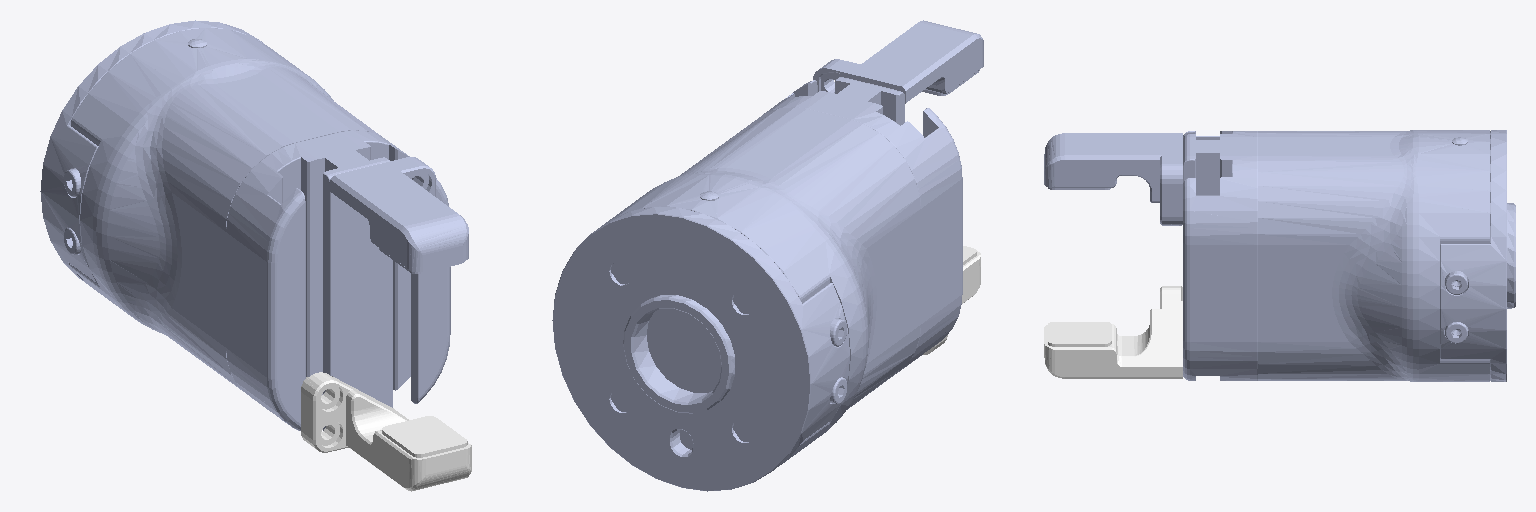
The robot description file, URDF, robot "Z02":
<?xml version="1.0" encoding="utf-8"?>
<!-- This URDF was automatically created by SolidWorks to URDF Exporter! Originally created by [author] ([email redacted]) 
     Commit Version: 1.6.0-4-g7f85cfe  Build Version: 1.6.7995.38578
     For more information, please see http://wiki.ros.org/sw_urdf_exporter -->
<robot
  name="Z02">
  <link
    name="base_link">
    <inertial>
      <origin
        xyz="0.0351488286721654 -0.0010622914192712 0.05732189697876"
        rpy="0 0 0" />
      <mass
        value="0.341305928820693" />
      <inertia
        ixx="0.000360995650954712"
        ixy="-2.94457431365275E-11"
        ixz="-3.27882088977825E-10"
        iyy="0.000217752419440063"
        iyz="-4.14495724536827E-07"
        izz="0.000332198989687869" />
    </inertial>
    <visual>
      <origin
        xyz="0 0 0"
        rpy="0 0 0" />
      <geometry>
        <mesh
          filename="package://Z02/meshes/base_link.STL" />
      </geometry>
      <material
        name="">
        <color
          rgba="0.792156862745098 0.819607843137255 0.933333333333333 1" />
      </material>
    </visual>
    <collision>
      <origin
        xyz="0 0 0"
        rpy="0 0 0" />
      <geometry>
        <mesh
          filename="package://Z02/meshes/base_link.STL" />
      </geometry>
    </collision>
  </link>
  <link
    name="R_Link">
    <inertial>
      <origin
        xyz="0.0014600275640089 0.0306095757707915 0.0191514762265022"
        rpy="0 0 0" />
      <mass
        value="0.00789862123815668" />
      <inertia
        ixx="1.38355549727619E-06"
        ixy="5.6403999054981E-08"
        ixz="2.21491316498542E-07"
        iyy="1.56971031815804E-06"
        iyz="-3.72182518762796E-08"
        izz="4.23330248524547E-07" />
    </inertial>
    <visual>
      <origin
        xyz="0 0 0"
        rpy="0 0 0" />
      <geometry>
        <mesh
          filename="package://Z02/meshes/R_Link.STL" />
      </geometry>
      <material
        name="">
        <color
          rgba="0.792156862745098 0.819607843137255 0.933333333333333 1" />
      </material>
    </visual>
    <collision>
      <origin
        xyz="0 0 0"
        rpy="0 0 0" />
      <geometry>
        <mesh
          filename="package://Z02/meshes/R_Link.STL" />
      </geometry>
    </collision>
  </link>
  <joint
    name="R_joint"
    type="prismatic">
    <origin
      xyz="0.035149 -0.05457 0.057277"
      rpy="1.5708 0 0" />
    <parent
      link="base_link" />
    <child
      link="R_Link" />
    <axis
      xyz="0 0 1" />
    <limit
      lower="-0.03"
      upper="0"
      effort="0"
      velocity="0" />
  </joint>
  <link
    name="L_Link">
    <inertial>
      <origin
        xyz="0 0 0"
        rpy="0 0 0" />
      <mass
        value="0" />
      <inertia
        ixx="0"
        ixy="0"
        ixz="0"
        iyy="0"
        iyz="0"
        izz="0" />
    </inertial>
    <visual>
      <origin
        xyz="0 0 0"
        rpy="0 0 0" />
      <geometry>
        <mesh
          filename="package://Z02/meshes/L_Link.STL" />
      </geometry>
      <material
        name="">
        <color
          rgba="1 1 1 1" />
      </material>
    </visual>
    <collision>
      <origin
        xyz="0 0 0"
        rpy="0 0 0" />
      <geometry>
        <mesh
          filename="package://Z02/meshes/L_Link.STL" />
      </geometry>
    </collision>
  </link>
  <joint
    name="L_joint"
    type="prismatic">
    <origin
      xyz="0.035149 -0.05457 0.057277"
      rpy="1.5708 0 0" />
    <parent
      link="base_link" />
    <child
      link="L_Link" />
    <axis
      xyz="0 0 1" />
    <limit
      lower="0"
      upper="0.03"
      effort="0"
      velocity="0" />
  </joint>
</robot>

--- What the picture shows (computed from the rendered views, not written in the file) ---
Views: 3 orthographic renders of the robot side by side, from view 1: azimuth 30°, elevation 25°; view 2: azimuth 150°, elevation 25°; view 3: azimuth 270°, elevation 25°.
Model Z02 with 3 links and 2 joints (2 prismatic), rooted at base_link, posed all joints at 0.
Visible links, largest first — view 1: base_link, L_Link, R_Link; view 2: base_link, R_Link, L_Link; view 3: base_link, R_Link, L_Link.
Boxes of the visible links, bbox=[...] form: base_link: bbox=[40, 20, 450, 430]; L_Link: bbox=[301, 372, 471, 491]; R_Link: bbox=[330, 157, 468, 273]; base_link: bbox=[552, 77, 962, 491]; R_Link: bbox=[813, 20, 983, 103]; L_Link: bbox=[923, 246, 980, 354]; base_link: bbox=[1183, 130, 1515, 381]; R_Link: bbox=[1044, 133, 1182, 225]; L_Link: bbox=[1044, 286, 1182, 378].
Size in the robot's own frame: 0.0751 by 0.1402 by 0.0759 metres.
Meshes: 3 distinct files referenced, 3 mesh visuals loaded (3 binary STL).